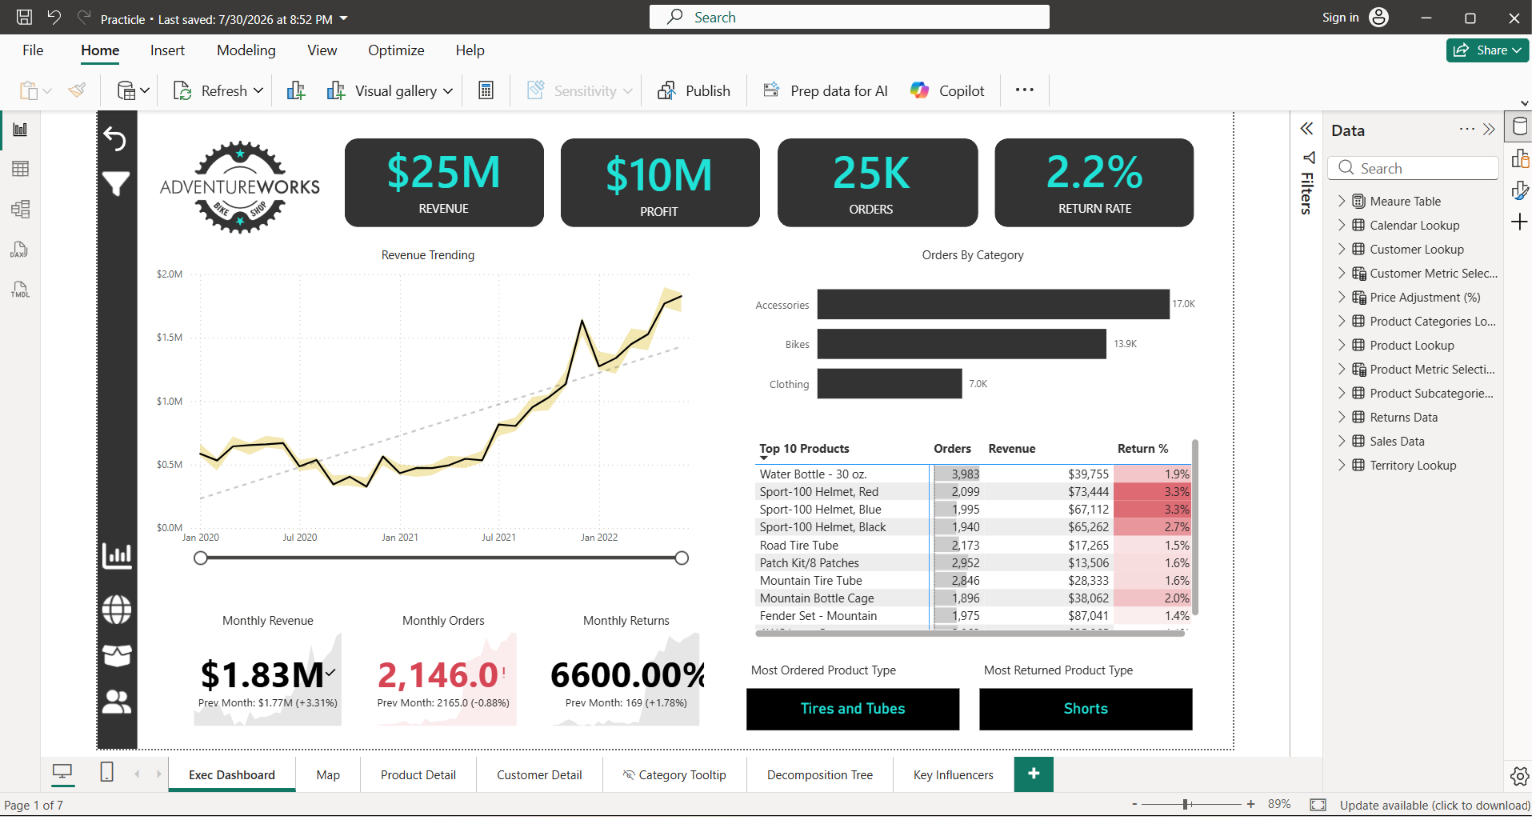

What the dashboard file says about the page in this screenshot:
{"tool":"powerbi","page":{"name":"Exec Dashboard ","canvas":[1280,720],"ordinal":0},"visuals":[{"type":"cardVisual","fields":{"Data":["Meaure Table.Total Profit"]},"box":[504.7,2.9,257,150.1],"z":0,"group":"g2"},{"type":"group","id":"g1","title":"KPI Backgrounds","box":[277.4,31.1,957.5,100],"z":0,"group":"g3"},{"type":"shape","box":[277.4,31.1,225,100],"z":0,"group":"g1"},{"type":"image","title":"AW Logo","box":[44.4,31.2,232.9,110.5],"z":0},{"type":"actionButton","box":[1.2,481.4,44.4,42],"z":0,"group":"g4"},{"type":"shape","title":"Left Nav Background","box":[0,0,45,720],"z":1000},{"type":"group","id":"g2","title":"KPI Values","box":[262.1,0,990.7,153.5],"z":1000,"group":"g3"},{"type":"cardVisual","fields":{"Data":["Meaure Table.Total Order"]},"box":[743.6,1.7,257,150.1],"z":1000,"group":"g2"},{"type":"shape","box":[521.2,31.1,225,100],"z":1000,"group":"g1"},{"type":"actionButton","box":[1.2,542.7,44.4,41],"z":1000,"group":"g4"},{"type":"group","id":"g3","title":"KPIs","box":[262.1,0,990.7,153.5],"z":2000},{"type":"cardVisual","fields":{"Data":["Meaure Table.Total Revenue"]},"box":[262.1,0,255.8,150.1],"z":2000,"group":"g2"},{"type":"shape","box":[764.9,31.1,226.2,100],"z":2000,"group":"g1"},{"type":"actionButton","box":[1.2,594.1,44,42],"z":2000,"group":"g4"},{"type":"cardVisual","fields":{"Data":["Meaure Table.Return Rate"]},"box":[996.2,0.3,256.2,150],"z":3000,"group":"g2"},{"type":"shape","box":[1009.9,31.1,225,100],"z":3000,"group":"g1"},{"type":"lineChart","title":"Revenue Trending ","fields":{"Y":["Meaure Table.Total Revenue"],"Category":["Calendar Lookup.Date Hierarchy.Start of Month"]},"box":[60.5,153.5,623.3,361.6],"z":3000},{"type":"actionButton","box":[1.2,645.9,44.4,41],"z":3000,"group":"g4"},{"type":"kpi","title":"Monthly Revenue","fields":{"Indicator":["Meaure Table.Total Revenue"],"TrendLine":["Calendar Lookup.Date Hierarchy.Start of Month"],"Goal":["Meaure Table.Previous Month Revenue"]},"box":[103.3,565.6,176.5,133.3],"z":4000},{"type":"kpi","title":"Monthly Orders","fields":{"TrendLine":["Calendar Lookup.Date Hierarchy.Start of Month"],"Indicator":["Meaure Table.Total Order"],"Goal":["Meaure Table.Previous Month Order"]},"box":[302.6,565.6,175.3,133.3],"z":5000},{"type":"kpi","title":"Monthly Returns","fields":{"TrendLine":["Calendar Lookup.Date Hierarchy.Start of Month"],"Indicator":["Meaure Table.Total Returns"],"Goal":["Meaure Table.Previous Month  Returns"]},"box":[507.9,565.6,175.3,133.3],"z":6000},{"type":"clusteredBarChart","title":"Orders By Category","fields":{"Y":["Meaure Table.Total Order"],"Category":["Product Categories Lookup.CategoryName"]},"box":[731.4,153.5,510.5,196.5],"z":7000},{"type":"pivotTable","fields":{"Rows":["Product Categories Lookup.CategoryName","Product Lookup.ProductName"],"Values":["Meaure Table.Total Order","Meaure Table.Total Revenue","Meaure Table.Return Rate"]},"box":[736,365.1,510.5,233.7],"z":8000},{"type":"card","fields":{"Values":["Min(Product Subcategories Lookup.SubcategoryName)"]},"box":[731.3,652,240.2,46.8],"z":9000},{"type":"textbox","box":[989.5,144.2,251.2,5.8],"z":10000},{"type":"card","fields":{"Values":["Min(Product Subcategories Lookup.SubcategoryName)"]},"box":[994.2,652,240.2,46.8],"z":11000},{"type":"textbox","box":[731.3,616,200.5,33.6],"z":12000},{"type":"textbox","box":[994.2,616,222.1,33.6],"z":13000},{"type":"actionButton","box":[0,12,44.4,38.4],"z":14000},{"type":"group","id":"g4","title":"Navigation Buttons","box":[1.2,481.4,44.2,205.8],"z":15000},{"type":"actionButton","box":[1.2,63,43.2,39.5],"z":16000}]}

Visuals, with their boxes on the page's 1280x720 design canvas (x1, y1, x2, y2). These are canvas units, not pixel positions in the 1532x817 screenshot, which may show the page scaled, cropped or inside an application window:
cardVisual - Meaure Table.Total Profit: bbox=[505, 3, 762, 153]
"KPI Backgrounds" group: bbox=[277, 31, 1235, 131]
shape: bbox=[277, 31, 502, 131]
"AW Logo" image: bbox=[44, 31, 277, 142]
actionButton: bbox=[1, 481, 46, 523]
"Left Nav Background" shape: bbox=[0, 0, 45, 720]
"KPI Values" group: bbox=[262, 0, 1253, 154]
cardVisual - Meaure Table.Total Order: bbox=[744, 2, 1001, 152]
shape: bbox=[521, 31, 746, 131]
actionButton: bbox=[1, 543, 46, 584]
"KPIs" group: bbox=[262, 0, 1253, 154]
cardVisual - Meaure Table.Total Revenue: bbox=[262, 0, 518, 150]
shape: bbox=[765, 31, 991, 131]
actionButton: bbox=[1, 594, 45, 636]
cardVisual - Meaure Table.Return Rate: bbox=[996, 0, 1252, 150]
shape: bbox=[1010, 31, 1235, 131]
"Revenue Trending " lineChart: bbox=[60, 154, 684, 515]
actionButton: bbox=[1, 646, 46, 687]
"Monthly Revenue" kpi: bbox=[103, 566, 280, 699]
"Monthly Orders" kpi: bbox=[303, 566, 478, 699]
"Monthly Returns" kpi: bbox=[508, 566, 683, 699]
"Orders By Category" clusteredBarChart: bbox=[731, 154, 1242, 350]
pivotTable - Product Categories Lookup.CategoryName x Product Lookup.ProductName: bbox=[736, 365, 1246, 599]
card - Min(Product Subcategories Lookup.SubcategoryName): bbox=[731, 652, 972, 699]
textbox: bbox=[990, 144, 1241, 150]
card - Min(Product Subcategories Lookup.SubcategoryName): bbox=[994, 652, 1234, 699]
textbox: bbox=[731, 616, 932, 650]
textbox: bbox=[994, 616, 1216, 650]
actionButton: bbox=[0, 12, 44, 50]
"Navigation Buttons" group: bbox=[1, 481, 45, 687]
actionButton: bbox=[1, 63, 44, 102]
